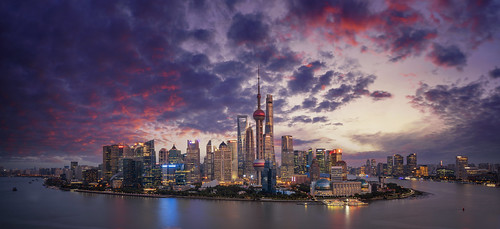building: (124, 138, 160, 187), (252, 96, 272, 170), (202, 142, 236, 185), (289, 147, 324, 178), (157, 144, 184, 182), (101, 143, 127, 182), (320, 146, 346, 183), (275, 134, 295, 182), (60, 166, 102, 186), (187, 136, 202, 185), (454, 157, 470, 184), (386, 153, 401, 177), (405, 151, 419, 174)
river: (8, 175, 496, 229)
sky: (1, 1, 500, 140)
